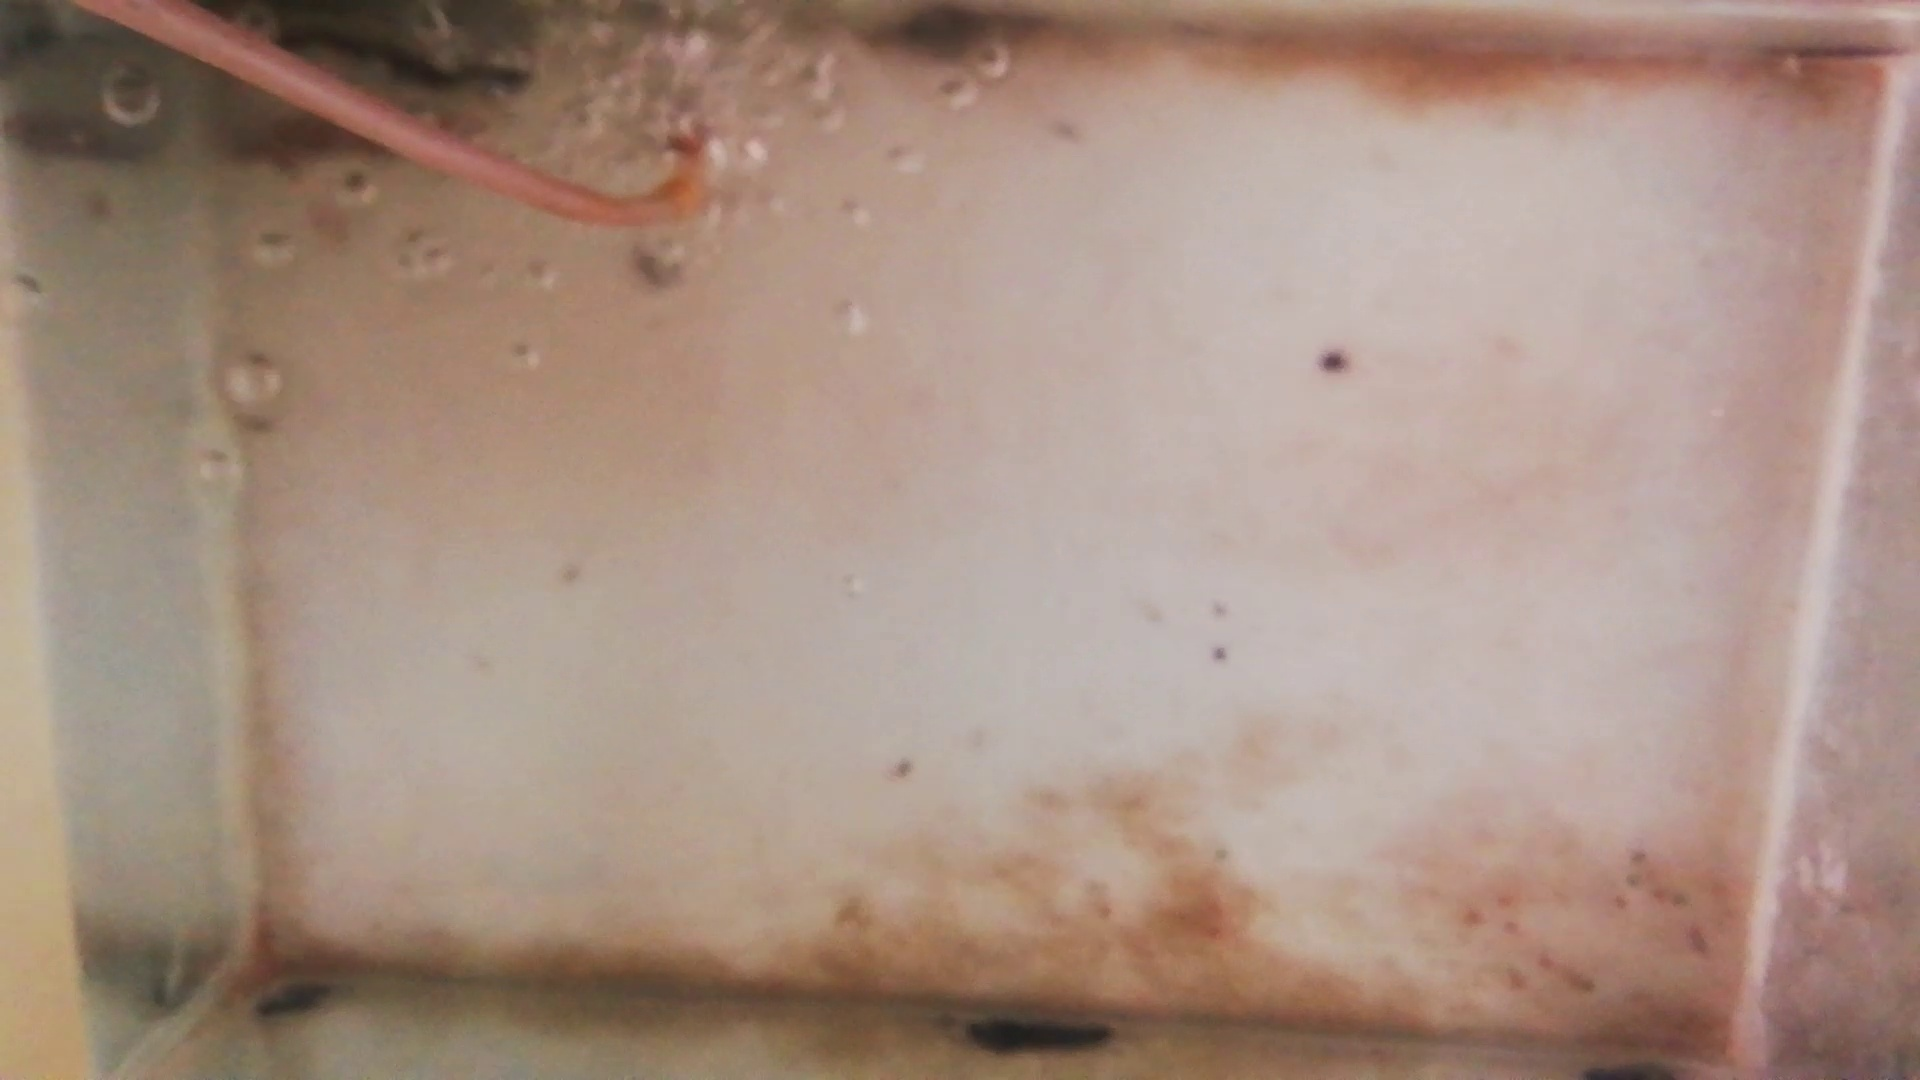fish: (302, 33, 534, 94), (228, 116, 402, 171)
